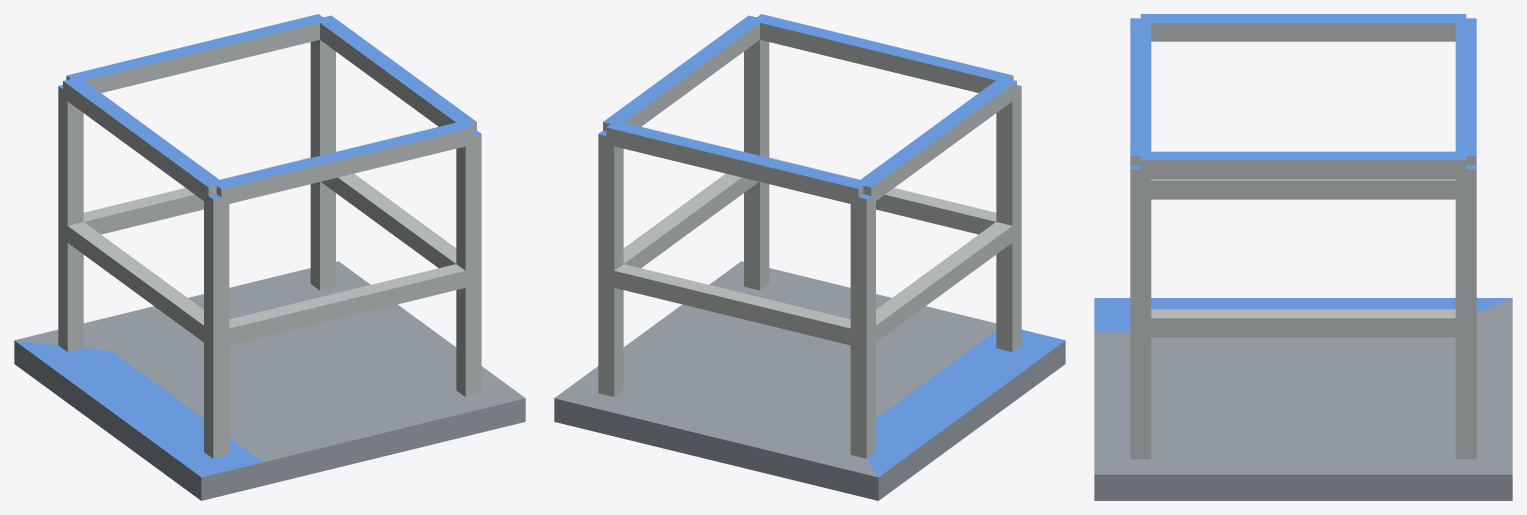
File: veyran_defence_tower_scaffolding.glb
3 views of the same model, side by side, from view 1: azimuth 30°, elevation 25°; view 2: azimuth 150°, elevation 25°; view 3: azimuth 270°, elevation 25° (orthographic). The views are drawn at different scales.
Visible parts, largest first — view 1: hull; view 2: hull; view 3: hull.
Part boxes in pixels (box(x1,y1,x2,y2)): hull: box(14, 14, 525, 500); hull: box(554, 14, 1065, 500); hull: box(1094, 14, 1512, 500).
Size of the model in its own units: 3.6 by 3.09 by 3.6.
